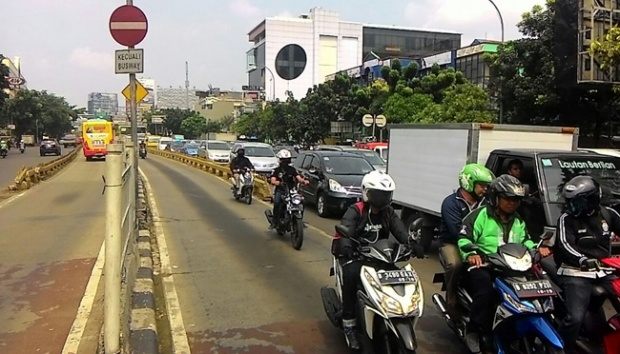plate: (512, 280, 554, 298), (381, 267, 413, 284)
